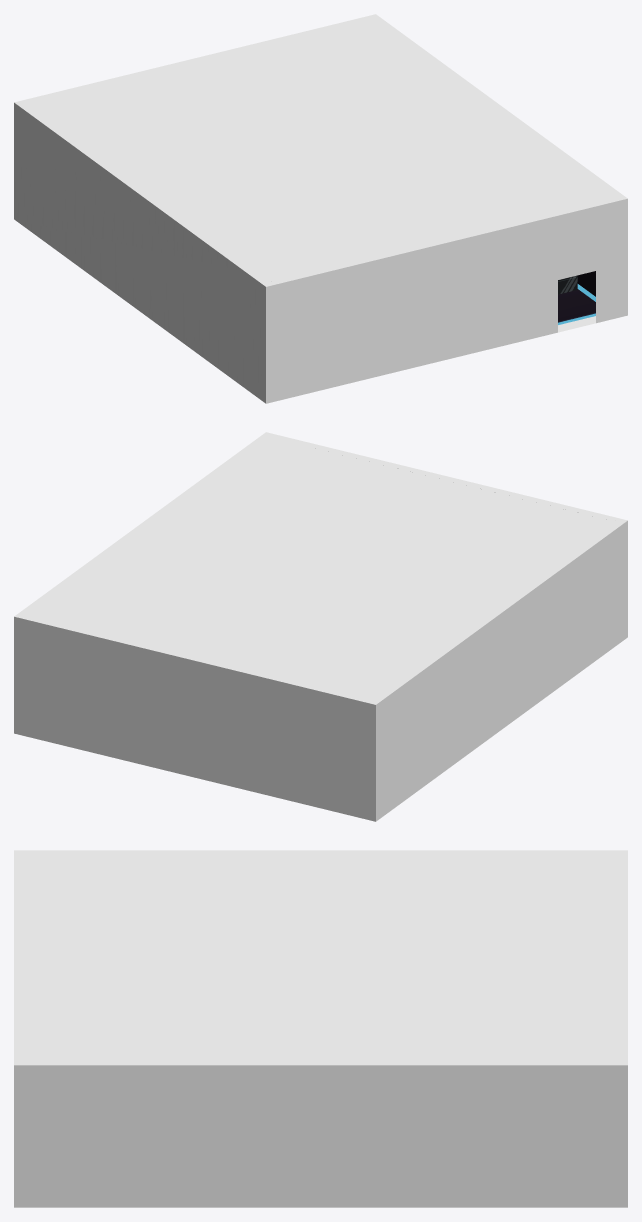
File: Data_room.fbx
3 views of the same model, one above another, from view 1: azimuth 30°, elevation 25°; view 2: azimuth 150°, elevation 25°; view 3: azimuth 270°, elevation 25° (orthographic). The views are drawn at different scales.
Parts seen in each view (by area): view 1: Model; view 2: Model; view 3: Model.
Boxes of the visible parts, x1,y1,x2,y2 form: Model: (14,14,627,403); Model: (14,432,627,821); Model: (14,850,627,1207).
Size of the model in its own units: 1432 by 442 by 1728.
